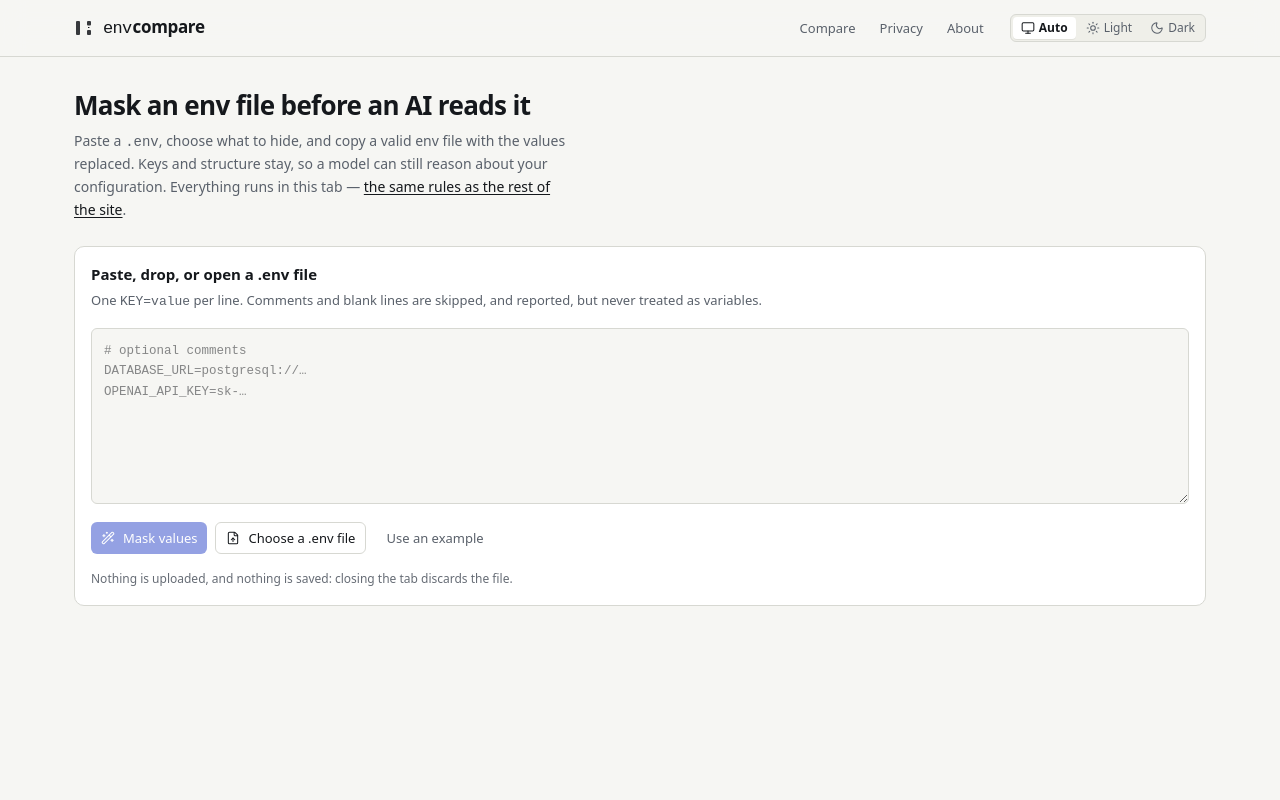
Mask page — naming and input › reports a paste with no variables, and names a wide CSV as out of scope
Type "key,value,environment" into the text box named "Env text to mask" at (640, 416), box [91, 328, 1189, 504]
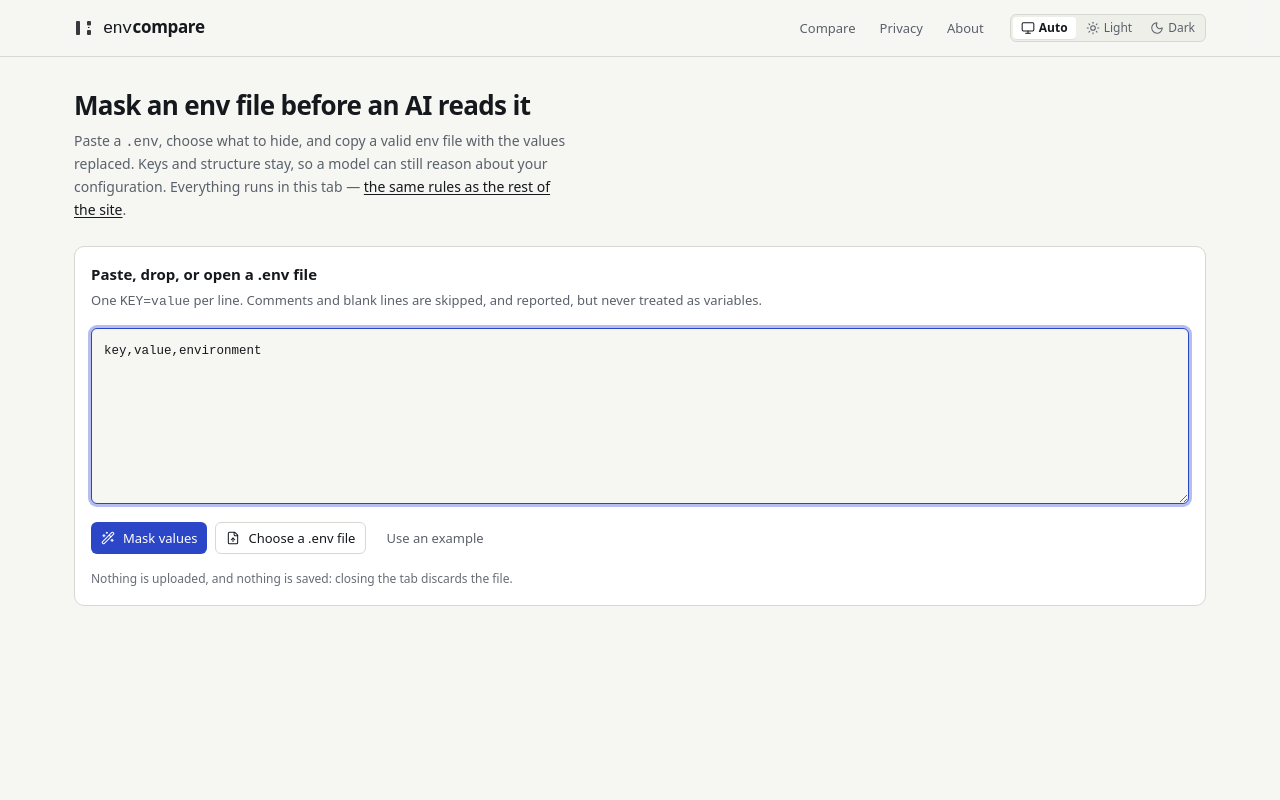
Click the button "Mask values" at (149, 538), box [91, 522, 208, 554]
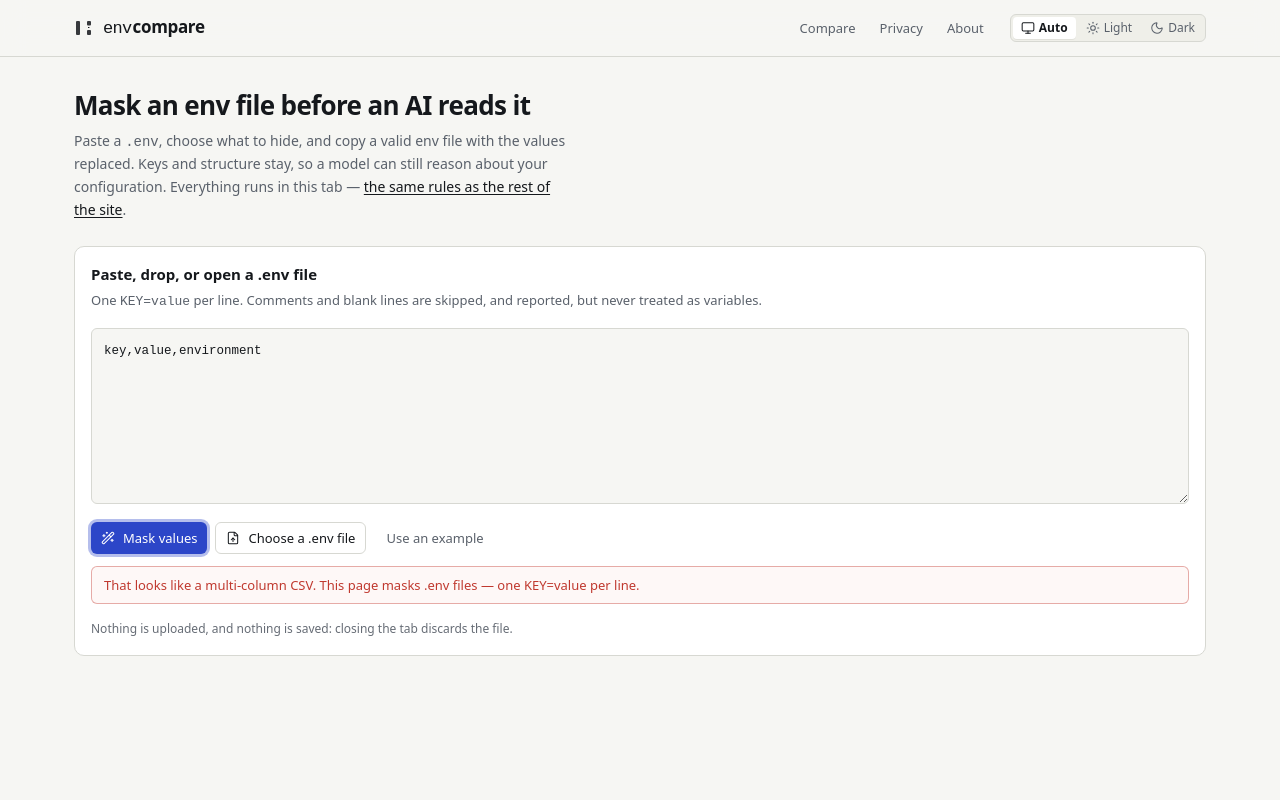
Expected: the message shows "multi-column CSV", [104, 576, 640, 594]
